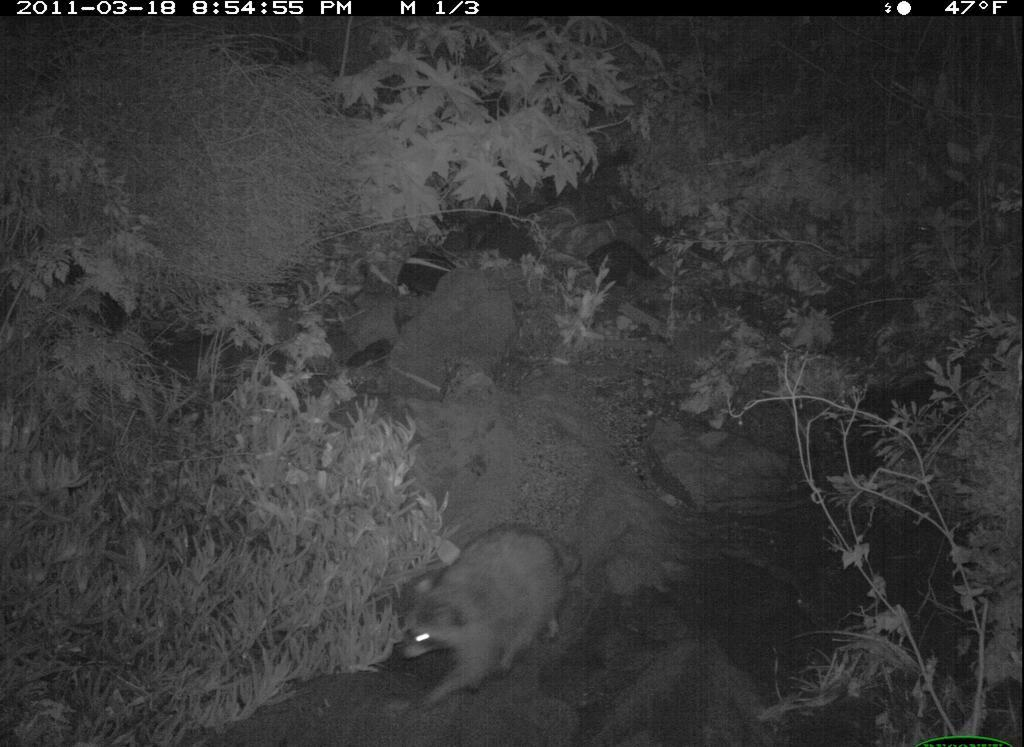raccoon: (385, 521, 592, 706)
